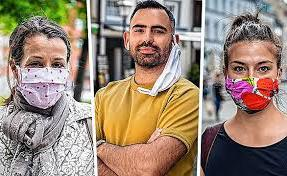with_mask: (227, 53, 275, 102), (21, 50, 66, 101)
without_mask: (127, 23, 166, 71)
